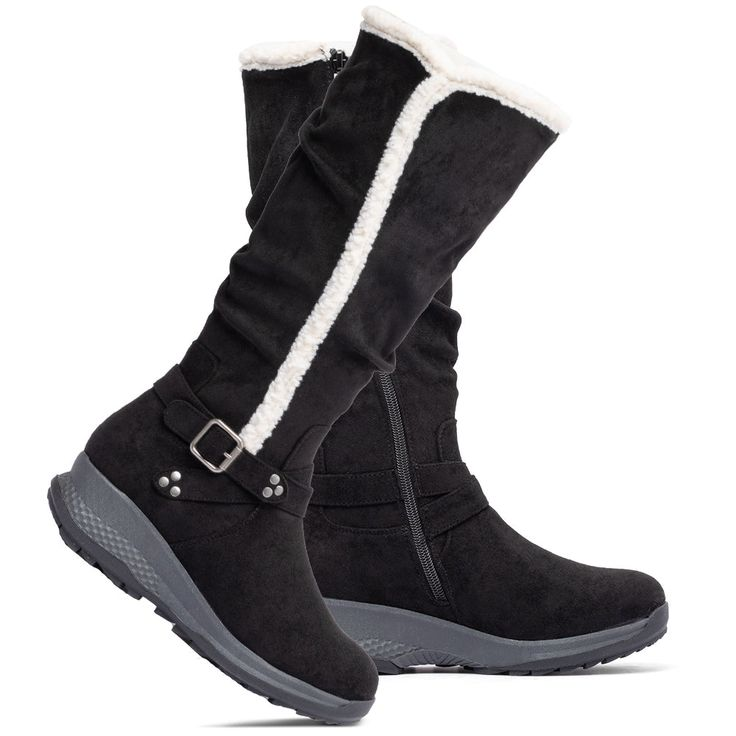gamuza: (89, 31, 665, 704)
